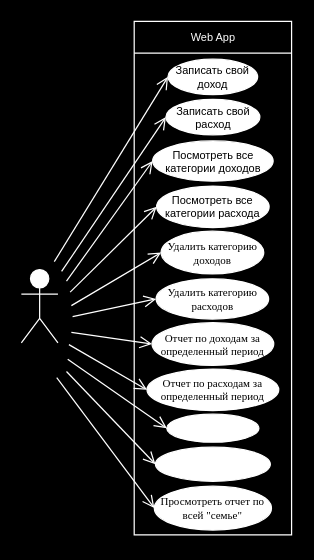
Some shapes in this 314 by 560 pixel diagram are drawn without their labels. Here are the shapes that lost their labels. From the top down, the centre of each, then its label:
pixel 39 305: Клиент
pixel 212 427: Создать "семью"
pixel 212 463: Добавиться в "семью"
